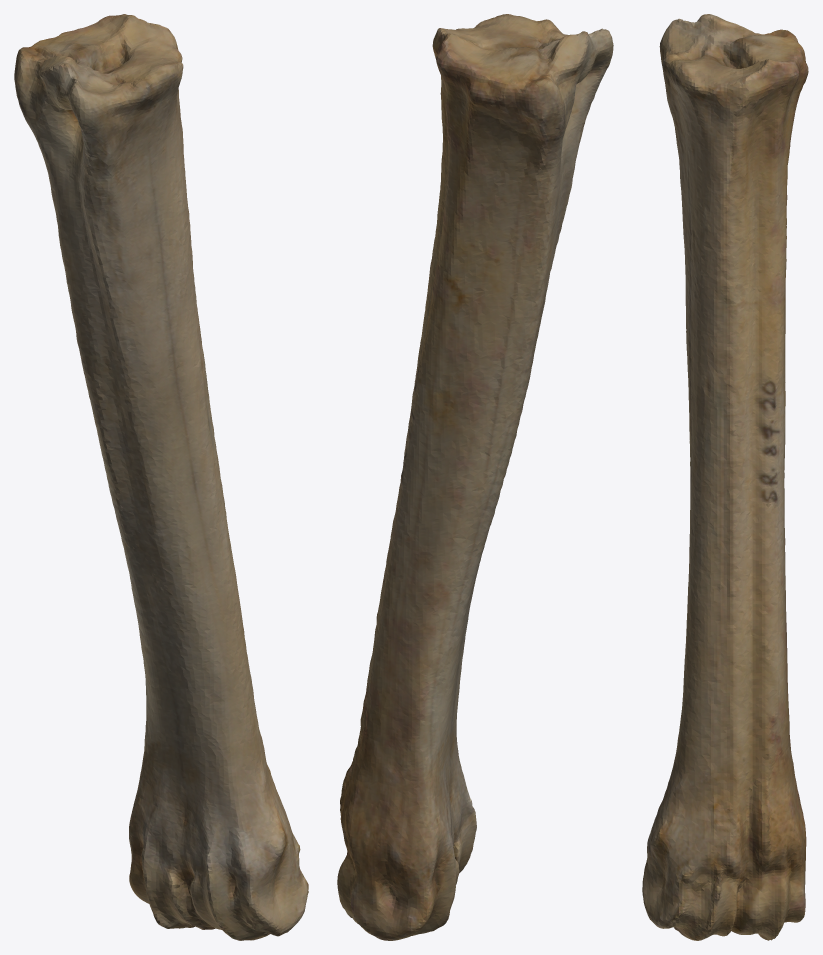
The picture shows the model from 3 angles, left to right: view 1: azimuth 30°, elevation 25°; view 2: azimuth 150°, elevation 25°; view 3: azimuth 270°, elevation 25°; orthographic projection. The views are drawn at different scales.
Visible parts, largest first — view 1: Node; view 2: Node; view 3: Node.
Part boxes in pixels (bbox=[...]): Node: bbox=[14, 14, 308, 940]; Node: bbox=[337, 14, 613, 940]; Node: bbox=[642, 14, 808, 940].
Size of the model in its own units: 72.99 by 264 by 46.73.
1 material, 1 textured.
